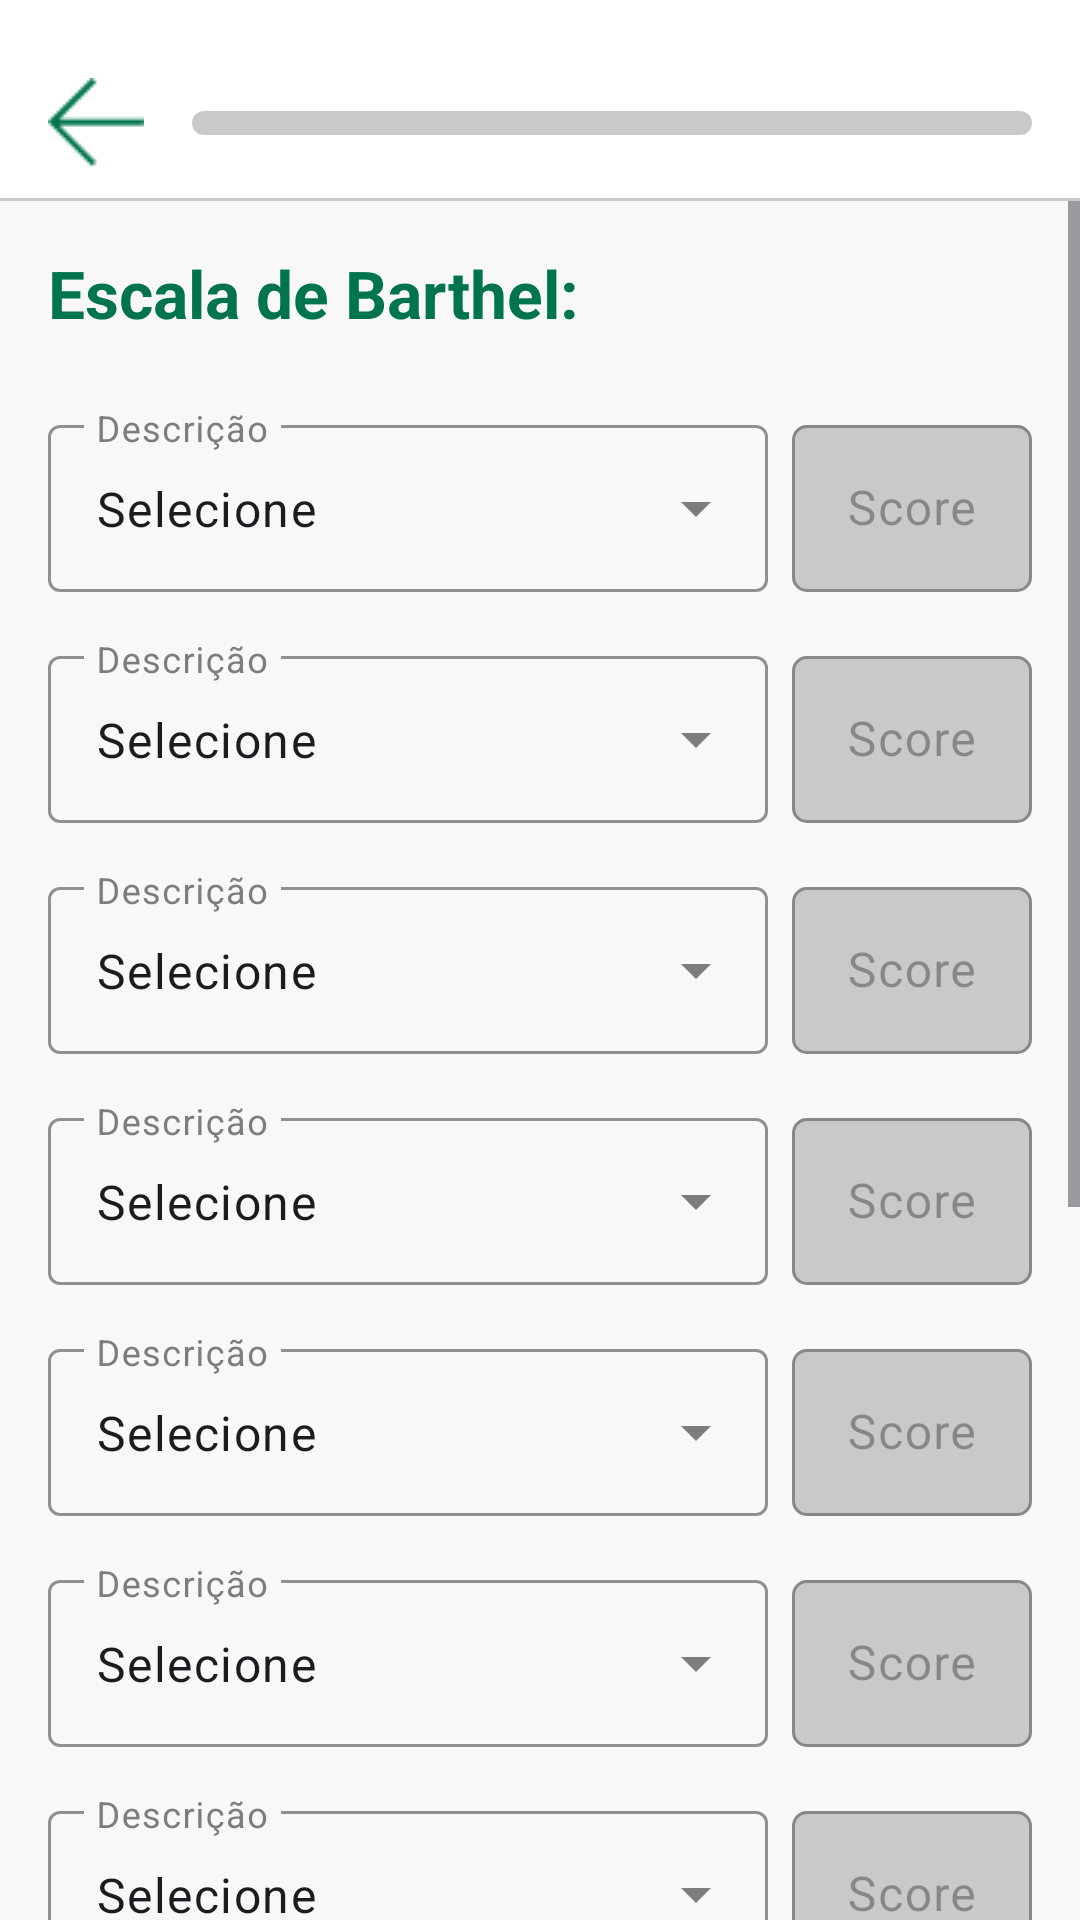

Point at icon controls on the screen. Image size 1080px×1920px, points as [x,y].
Voltar: [96,122]
